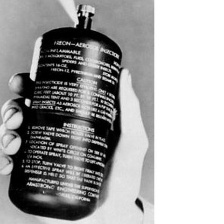aerosol_cans: (5, 0, 131, 223)
